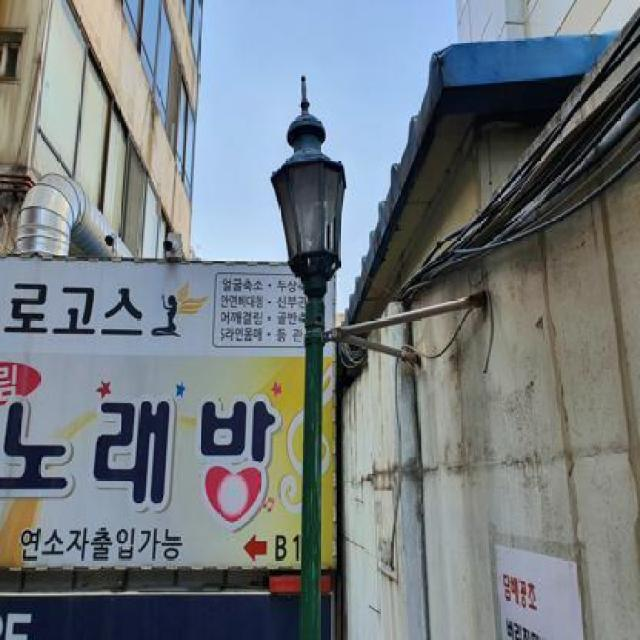pole: (262, 66, 358, 640)
